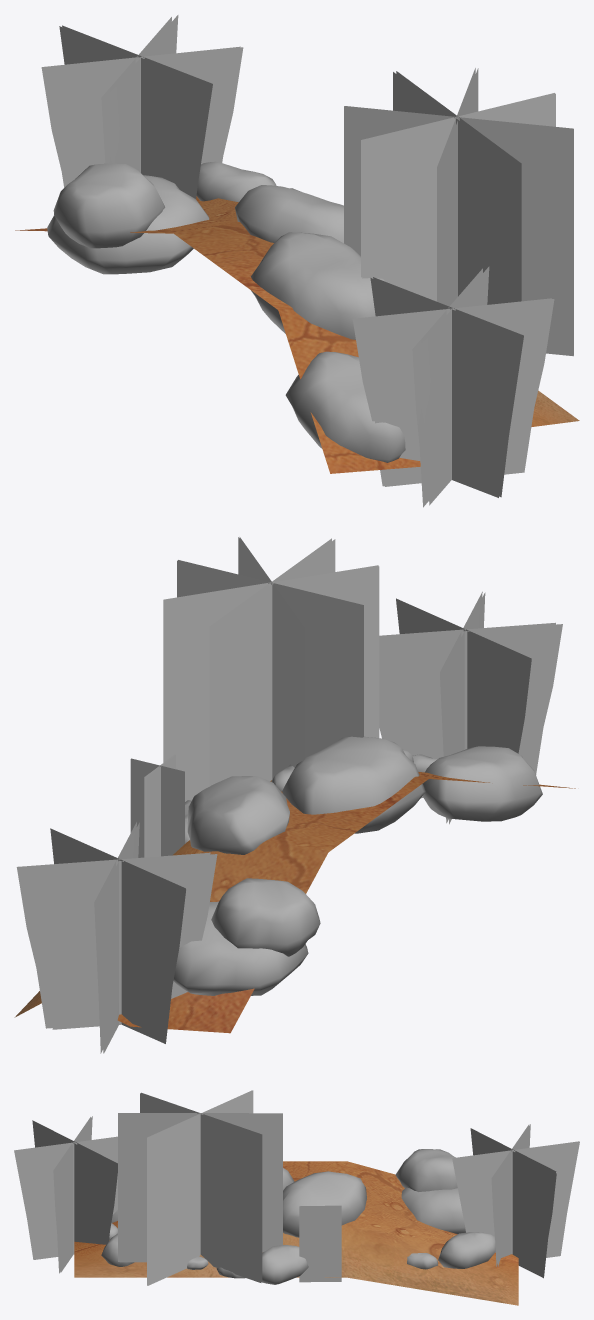
Rendered from SM_RockBoundary.fbx.
3 renders of one model, top to bottom at view 1: azimuth 30°, elevation 25°; view 2: azimuth 150°, elevation 25°; view 3: azimuth 270°, elevation 25°, orthographic. The views are drawn at different scales.
Visible parts, largest first — view 1: Rock_Boundary; view 2: Rock_Boundary; view 3: Rock_Boundary.
Boxes of the visible parts, x1,y1,x2,y2 form: Rock_Boundary: (15, 15, 579, 507); Rock_Boundary: (14, 537, 575, 1053); Rock_Boundary: (14, 1090, 579, 1305).
Bounding box in the file's own units: 162 × 135 × 377.
